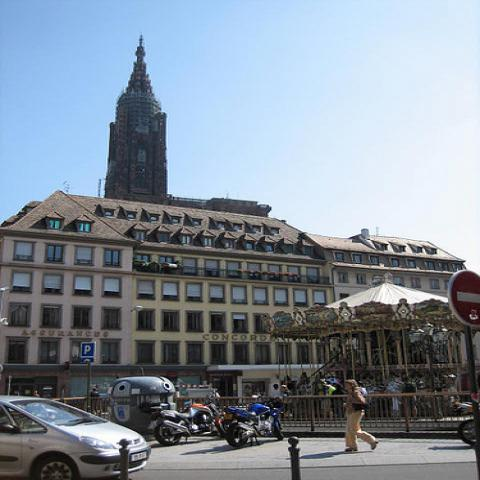car: (0, 392, 154, 479)
motorcycle: (148, 392, 220, 446), (218, 390, 284, 448), (454, 401, 478, 447)
